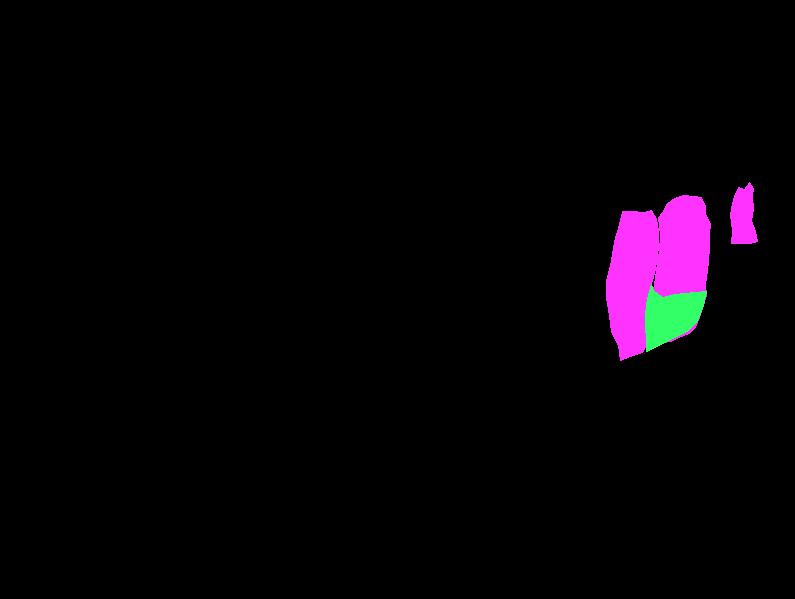Broken part: (645, 284, 706, 351)
Dent: (650, 195, 710, 342), (606, 210, 658, 360), (730, 182, 757, 243)
